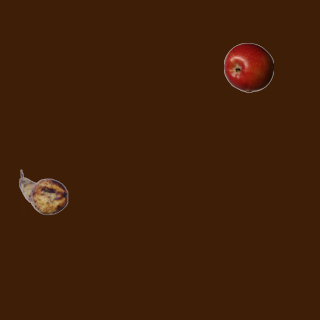Apple Braeburn: (223, 42, 273, 92)
Pear Abate: (18, 167, 68, 217)
